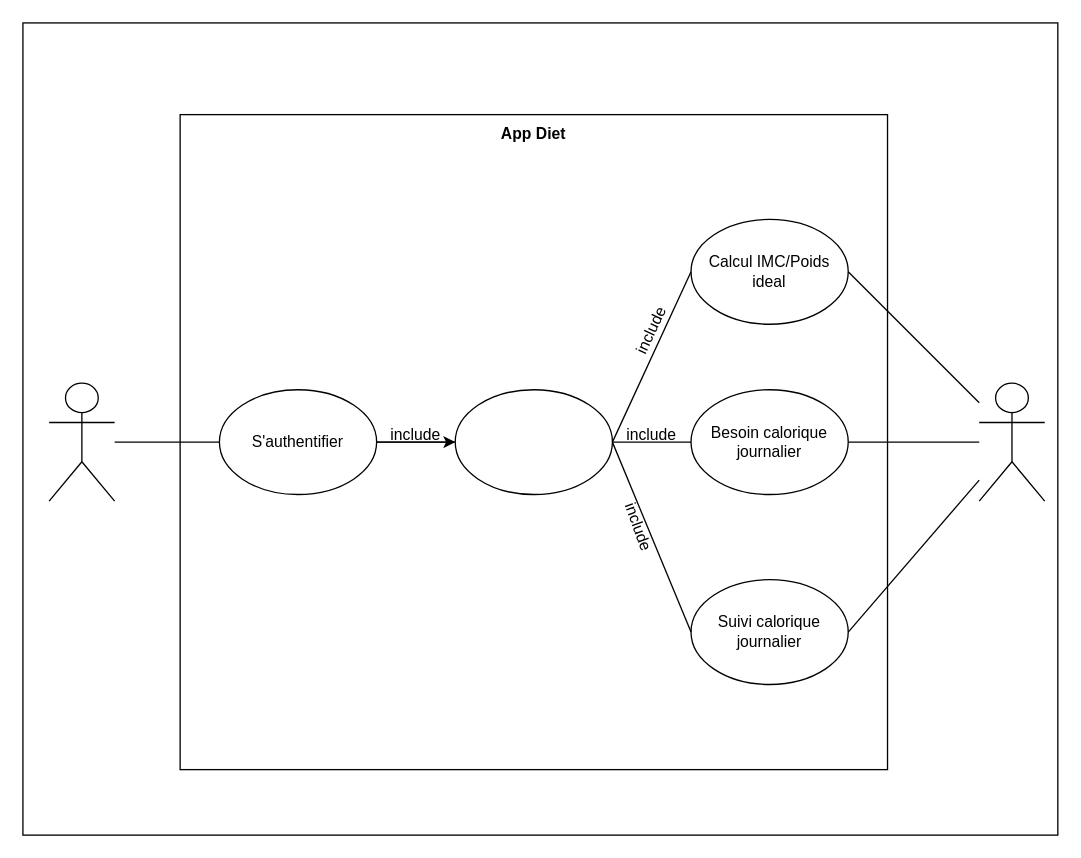
Some shapes in this 1081 by 858 pixel diagram are drawn without their labels. The shapes that lost their labels are listed below. From the top down, each one's centre as x and y in pixels, then its label:
At [81,441]: "Utilisateur".
At [533,441]: "Données biometriques".
At [1011,441]: "Serveur".
